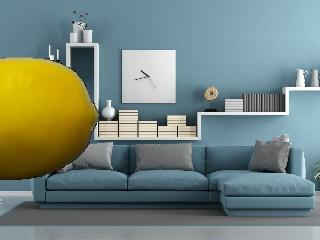lemon: (0, 57, 99, 179)
